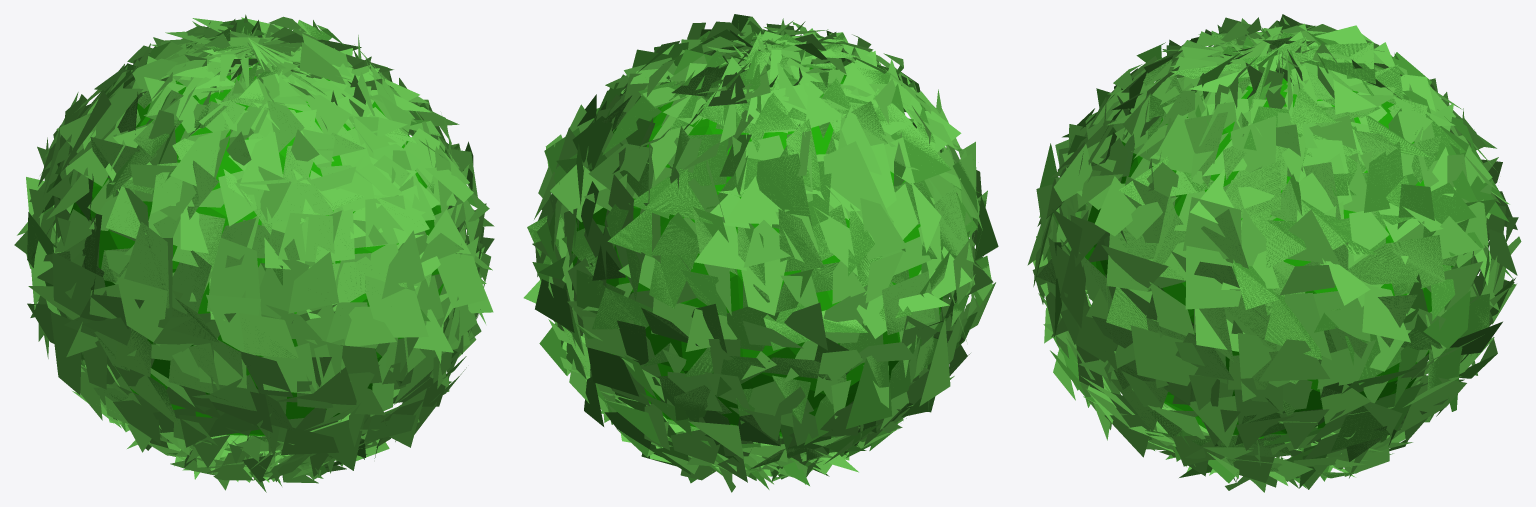
The model's file is SmallBush.fbx.
3 renders of one model, left to right at view 1: azimuth 30°, elevation 25°; view 2: azimuth 150°, elevation 25°; view 3: azimuth 270°, elevation 25°, orthographic.
Visible parts, largest first — view 1: Sphere; view 2: Sphere; view 3: Sphere.
Part boxes in pixels (<box>): Sphere: <box>14,14,494,492</box>; Sphere: <box>523,14,998,492</box>; Sphere: <box>1027,14,1521,492</box>.
Size of the model in its own units: 462 by 470 by 484.
